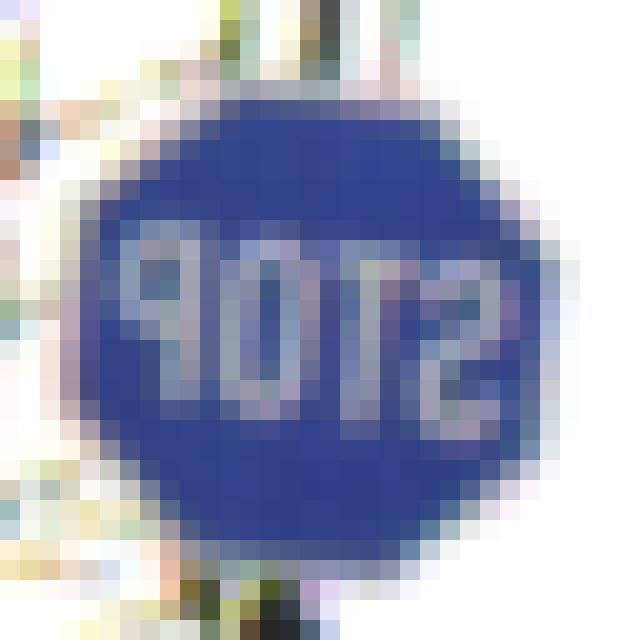STOP: (82, 103, 549, 566)
